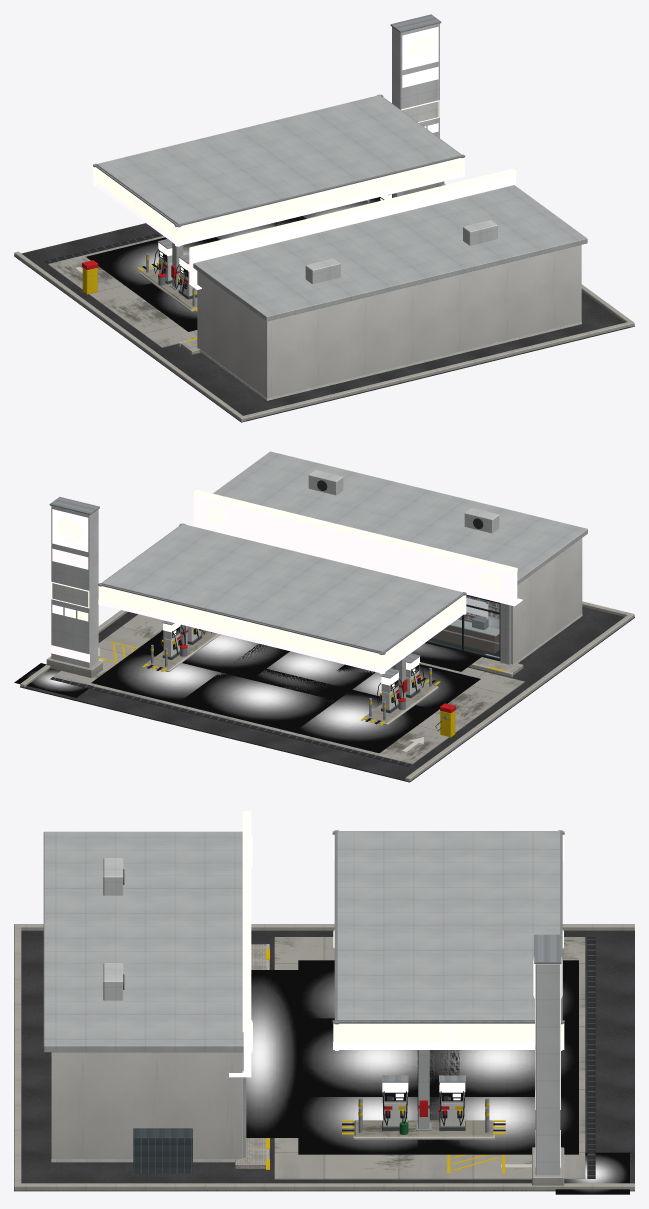
Rendered from LM_ENV_Shell.glb.
3 views of the same model, one above another, from view 1: azimuth 30°, elevation 25°; view 2: azimuth 150°, elevation 25°; view 3: azimuth 270°, elevation 25° (orthographic). The views are drawn at different scales.
Visible parts, largest first — view 1: shell | Painted panel, shell | Render wall, shell | Night glow sign, shell | Asphalt, shell | Forecourt concrete, shell | Night wash, shell | Satin metal, shell | Floor tiles; view 2: shell | Painted panel, shell | Night wash, shell | Night glow sign, shell | Asphalt, shell | Forecourt concrete, shell | Render wall, shell | Satin metal, shell | Shopfront glass, shell | Plastic; view 3: shell | Painted panel, shell | Night wash, shell | Asphalt, shell | Render wall, shell | Forecourt concrete, shell | Night glow sign, shell | Satin metal, shell | Plastic, shell | Paving.
Part boxes in pixels (left/top/right/bottom): shell | Painted panel: left=14, top=23, right=634, bottom=421; shell | Render wall: left=197, top=245, right=581, bottom=398; shell | Night glow sign: left=93, top=26, right=516, bottom=284; shell | Asphalt: left=14, top=223, right=634, bottom=422; shell | Forecourt concrete: left=48, top=236, right=197, bottom=347; shell | Night wash: left=86, top=197, right=379, bottom=331; shell | Satin metal: left=44, top=14, right=465, bottom=306; shell | Floor tiles: left=197, top=322, right=581, bottom=400; shell | Painted panel: left=20, top=451, right=634, bottom=781; shell | Night wash: left=14, top=617, right=499, bottom=753; shell | Night glow sign: left=50, top=489, right=517, bottom=689; shell | Asphalt: left=20, top=606, right=634, bottom=782; shell | Forecourt concrete: left=54, top=614, right=524, bottom=764; shell | Render wall: left=510, top=538, right=582, bottom=664; shell | Satin metal: left=49, top=497, right=500, bottom=766; shell | Shopfront glass: left=428, top=596, right=499, bottom=658; shell | Plastic: left=98, top=480, right=504, bottom=751; shell | Painted panel: left=14, top=831, right=634, bottom=1190; shell | Night wash: left=246, top=960, right=629, bottom=1194; shell | Asphalt: left=14, top=930, right=634, bottom=1191; shell | Render wall: left=51, top=1052, right=242, bottom=1158; shell | Forecourt concrete: left=274, top=937, right=585, bottom=1179; shell | Night glow sign: left=242, top=811, right=564, bottom=1167; shell | Satin metal: left=133, top=830, right=595, bottom=1178; shell | Plastic: left=123, top=869, right=531, bottom=1173; shell | Paving: left=235, top=944, right=266, bottom=1168.
Size of the model in its own units: 25.5 by 10.1 by 25.
14 materials, 9 textured.
